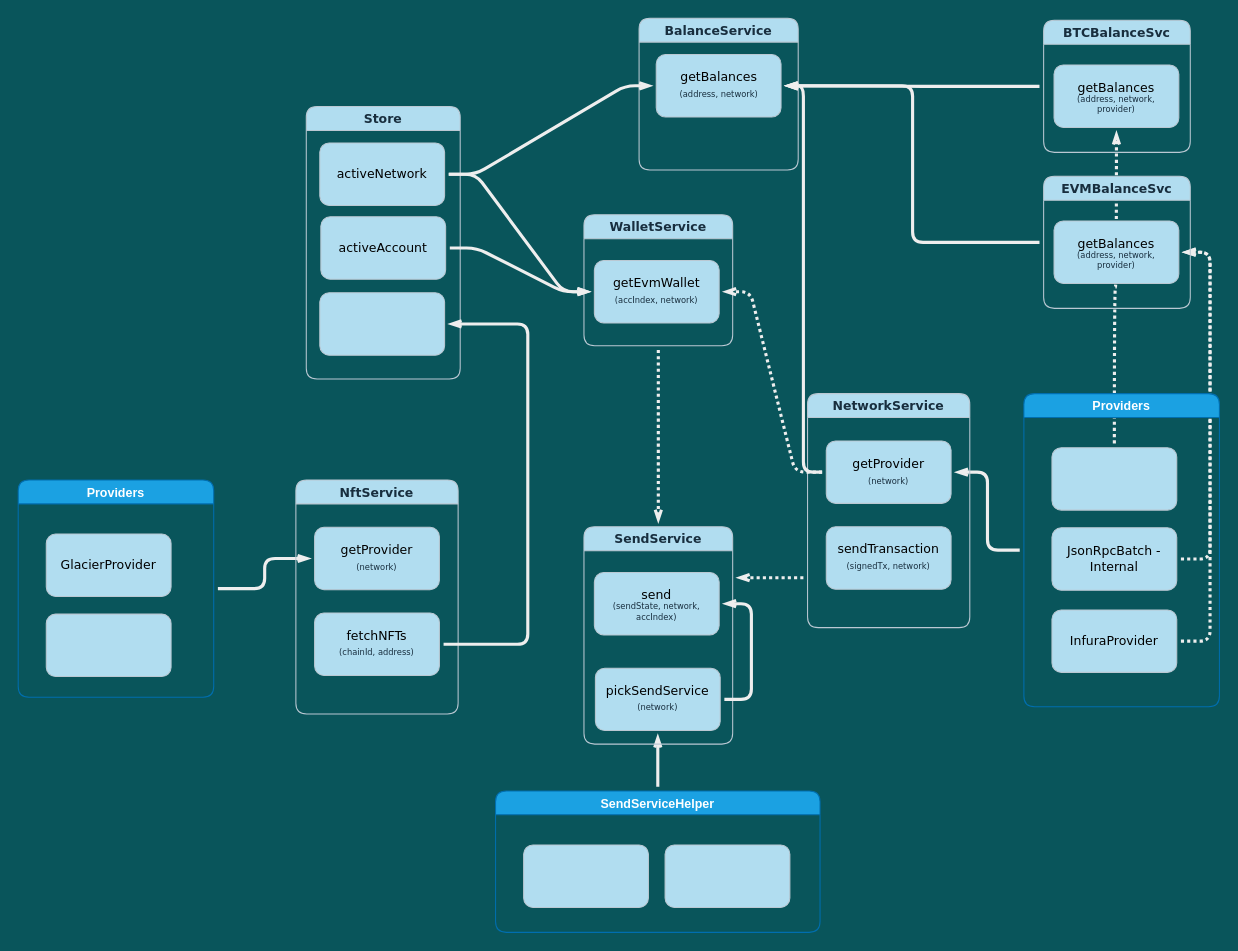
Some shapes in this 1238 by 951 pixel diagram are drawn without their labels. The centre of each missing label's shape, as x and y in pixels:
"BlockCypher - Provider" belongs at [1114,478].
"CovalentProvider" belongs at [108,645].
"nftCollection" belongs at [382,323].
"SendServiceBTC" belongs at [585,875].
"SendServiceEVM" belongs at [727,875].
